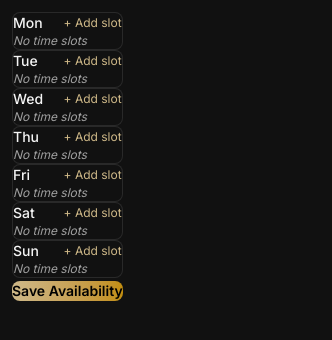
Test: AvailabilityEditor › Saving › shows success message after save
Click the button "Save Availability".
click(67, 291)  # box [12,281,123,301]
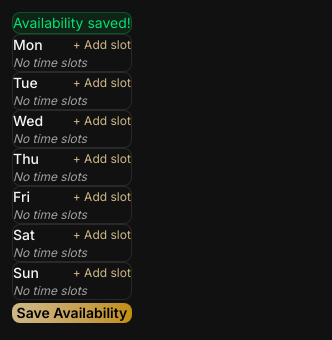
Expected: the text "Availability saved!" is shown, [12,12,132,34]
